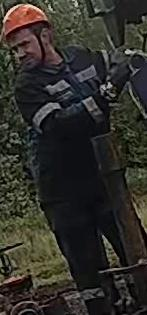gloves: (94, 50, 137, 102)
helmet: (0, 3, 51, 43)
vest: (13, 46, 108, 197)
